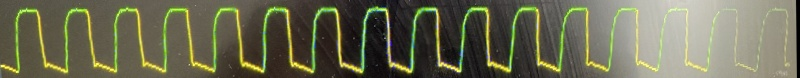normal_pressure: (0, 0, 787, 77)
